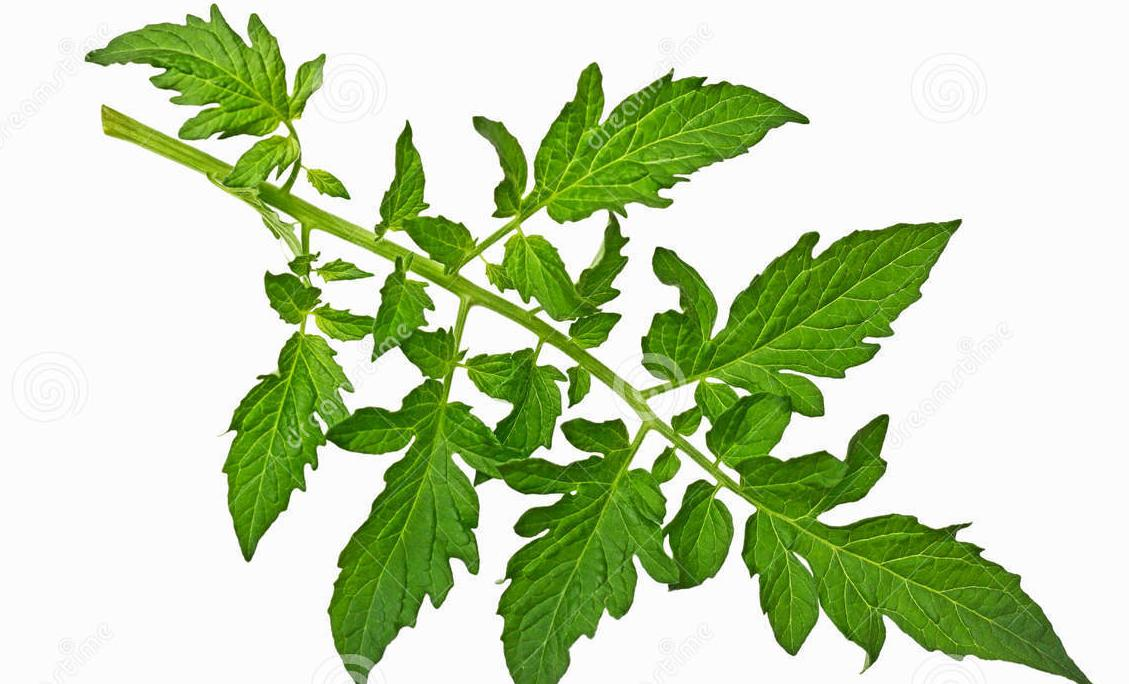Tomato leaf: (302, 363, 519, 684), (770, 493, 1129, 684), (671, 215, 988, 415), (476, 73, 850, 241), (490, 401, 681, 684), (76, 0, 350, 181), (194, 312, 382, 547)
